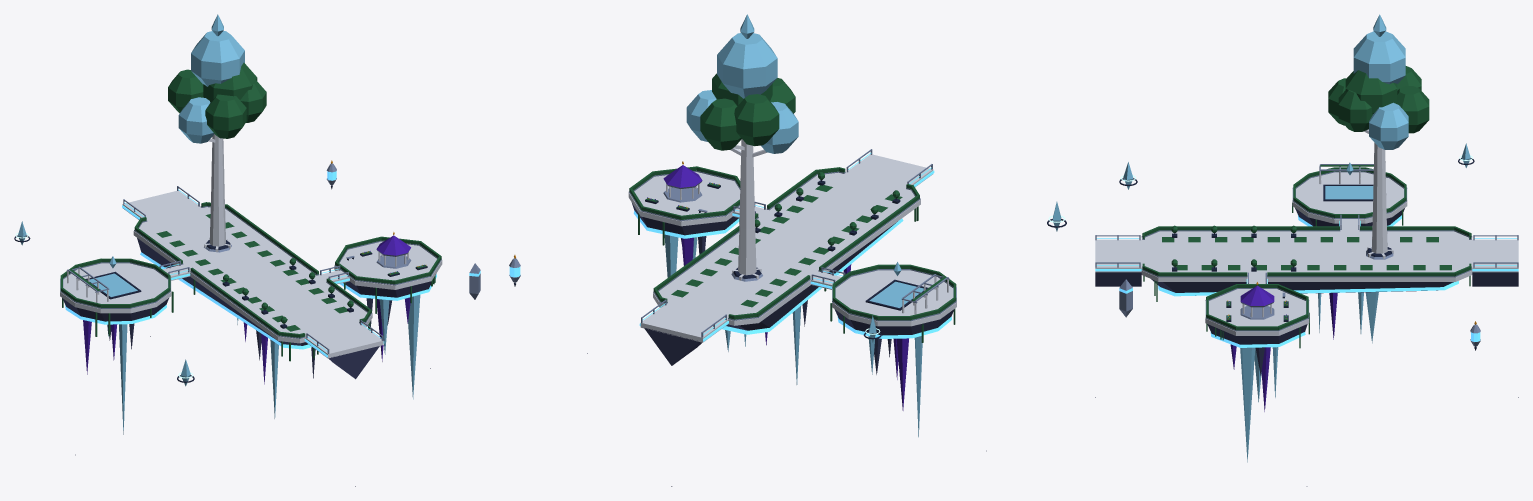
File: chunk_garden_terrace.fbx
The picture shows the model from 3 angles, left to right: view 1: azimuth 30°, elevation 25°; view 2: azimuth 150°, elevation 25°; view 3: azimuth 270°, elevation 25°; orthographic projection. The views are drawn at different scales.
Parts seen in each view (by area): view 1: chunk_garden_terrace; view 2: chunk_garden_terrace; view 3: chunk_garden_terrace.
Boxes of the visible parts, bbox=[...] form: chunk_garden_terrace: bbox=[14, 14, 480, 486]; chunk_garden_terrace: bbox=[509, 14, 1066, 486]; chunk_garden_terrace: bbox=[1095, 14, 1518, 486].
Size of the model in its own units: 256 by 256 by 256.
